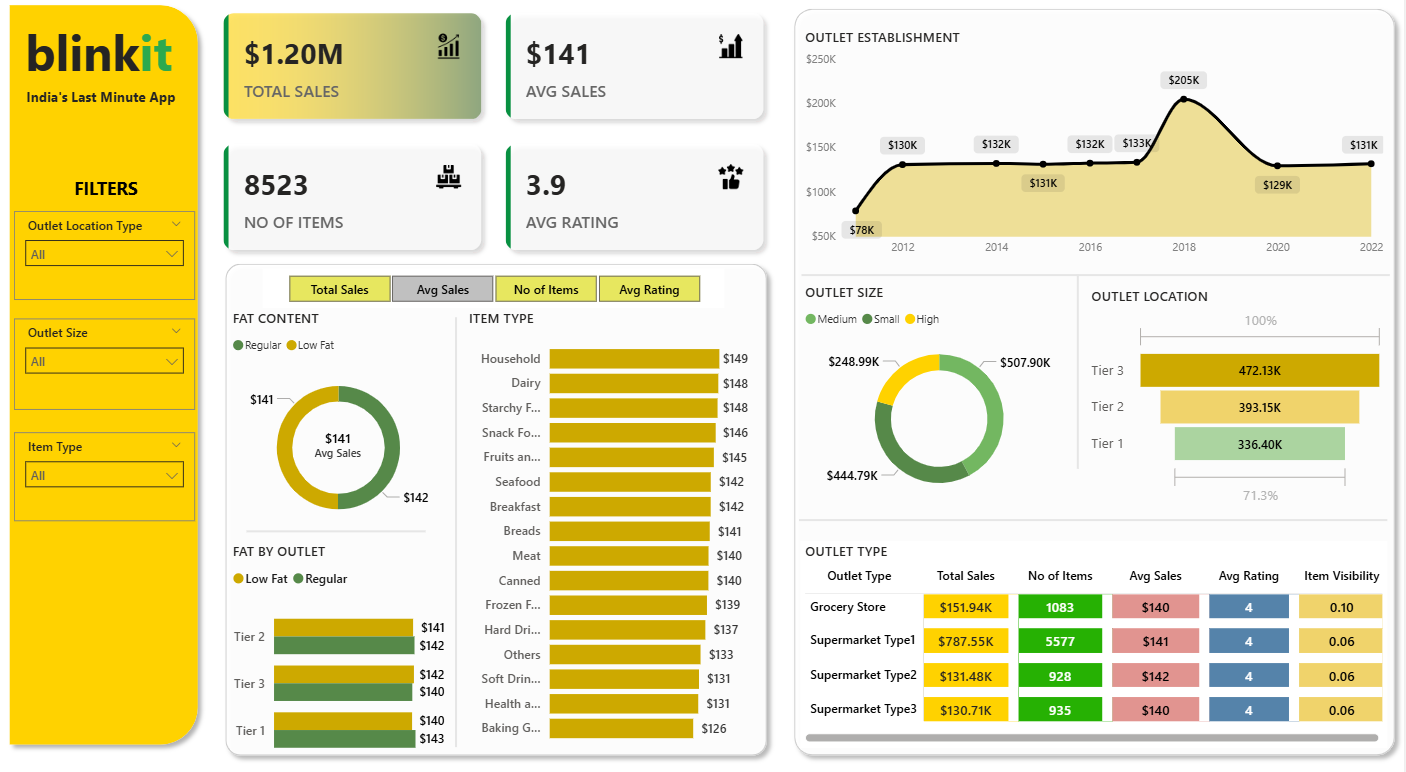

This screenshot's page, from the dashboard's own definition file:
{"tool":"powerbi","page":{"name":"Page 1","canvas":[1400,800],"ordinal":0},"visuals":[{"type":"shape","box":[10.9,15,204.5,749.8],"z":0},{"type":"textbox","box":[31.4,32.7,165,83.2],"z":1000},{"type":"textbox","box":[28.9,98.7,167.1,34.2],"z":2000},{"type":"cardVisual","fields":{"Data":["BlinkIT Grocery Data.Total Sales","BlinkIT Grocery Data.Avg Sales","BlinkIT Grocery Data.No of Items","BlinkIT Grocery Data.Avg Rating"]},"box":[215.4,15,569.9,269.9],"z":3000},{"type":"shape","box":[225,271.3,553.5,504.4],"z":4000},{"type":"donutChart","title":"FAT CONTENT","fields":{"Y":["BlinkIT Grocery Data.Total Sales"],"Category":["BlinkIT Grocery Data.Item Fat Content"]},"box":[235.9,324.5,219.5,230.4],"z":5000},{"type":"slicer","fields":{"Values":["Metrics.Metrics"]},"box":[271.3,284.9,456.7,39.5],"z":6000},{"type":"cardVisual","fields":{"Data":["BlinkIT Grocery Data.Total Sales"]},"box":[298.6,425.4,94.1,62.7],"z":7000},{"type":"clusteredBarChart","title":"FAT BY OUTLET","fields":{"Y":["BlinkIT Grocery Data.Total Sales"],"Category":["BlinkIT Grocery Data.Outlet Location Type"],"Series":["BlinkIT Grocery Data.Item Fat Content"]},"box":[236.8,553.9,219.7,230.3],"z":8000},{"type":"shape","box":[254.9,534.4,177.2,20.5],"z":9000},{"type":"shape","box":[454,332.7,16.4,425.4],"z":10000},{"type":"barChart","title":"ITEM TYPE","fields":{"Y":["BlinkIT Grocery Data.Total Sales"],"Category":["BlinkIT Grocery Data.Item Type"]},"box":[470.4,324.5,286.3,440.4],"z":11000},{"type":"shape","box":[788,19.1,612.1,756.7],"z":12000},{"type":"lineChart","title":"OUTLET ESTABLISHMENT","fields":{"Y":["BlinkIT Grocery Data.Total Sales"],"Category":["BlinkIT Grocery Data.Outlet Establishment Year"]},"box":[803,46.4,582.1,234.5],"z":13000},{"type":"shape","box":[804.4,280.8,582.1,20.5],"z":14000},{"type":"donutChart","title":"OUTLET SIZE","fields":{"Y":["BlinkIT Grocery Data.Total Sales"],"Category":["BlinkIT Grocery Data.Outlet Size"]},"box":[803,298.6,275.4,225],"z":15000},{"type":"shape","box":[1070.2,290.4,15,192.2],"z":16000},{"type":"funnel","title":"OUTLET LOCATION","fields":{"Y":["Sum(BlinkIT Grocery Data.Sales)"],"Category":["BlinkIT Grocery Data.Outlet Location Type"]},"box":[1086.6,301.3,299.9,222.2],"z":17000},{"type":"shape","box":[801.6,523.5,582.1,20.5],"z":18000},{"type":"pivotTable","title":"OUTLET TYPE","fields":{"Rows":["BlinkIT Grocery Data.Outlet Type"],"Values":["BlinkIT Grocery Data.Total Sales","BlinkIT Grocery Data.No of Items","BlinkIT Grocery Data.Avg Sales","BlinkIT Grocery Data.Avg Rating","Avg(BlinkIT Grocery Data.Item Visibility)"]},"box":[803,553.5,580.8,204.5],"z":19000},{"type":"slicer","fields":{"Values":["BlinkIT Grocery Data.Outlet Location Type"]},"box":[25,227.6,178.9,88.2],"z":20000},{"type":"slicer","fields":{"Values":["BlinkIT Grocery Data.Outlet Size"]},"box":[25,334.2,178.9,90.8],"z":21000},{"type":"slicer","fields":{"Values":["BlinkIT Grocery Data.Item Type"]},"box":[25,446.1,178.9,88.2],"z":22000},{"type":"shape","title":"FILTERS","box":[72.4,193.4,85.5,25],"z":23000}]}

Visuals, with their boxes on the page's 1400x800 design canvas (x1, y1, x2, y2). These are canvas units, not pixel positions in the 1406x772 screenshot, which may show the page scaled, cropped or inside an application window:
shape: rect(11, 15, 215, 765)
textbox: rect(31, 33, 196, 116)
textbox: rect(29, 99, 196, 133)
cardVisual - BlinkIT Grocery Data.Total Sales x BlinkIT Grocery Data.Avg Sales: rect(215, 15, 785, 285)
shape: rect(225, 271, 778, 776)
"FAT CONTENT" donutChart: rect(236, 324, 455, 555)
slicer - Metrics.Metrics: rect(271, 285, 728, 324)
cardVisual - BlinkIT Grocery Data.Total Sales: rect(299, 425, 393, 488)
"FAT BY OUTLET" clusteredBarChart: rect(237, 554, 456, 784)
shape: rect(255, 534, 432, 555)
shape: rect(454, 333, 470, 758)
"ITEM TYPE" barChart: rect(470, 324, 757, 765)
shape: rect(788, 19, 1400, 776)
"OUTLET ESTABLISHMENT" lineChart: rect(803, 46, 1385, 281)
shape: rect(804, 281, 1386, 301)
"OUTLET SIZE" donutChart: rect(803, 299, 1078, 524)
shape: rect(1070, 290, 1085, 483)
"OUTLET LOCATION" funnel: rect(1087, 301, 1386, 524)
shape: rect(802, 524, 1384, 544)
"OUTLET TYPE" pivotTable: rect(803, 554, 1384, 758)
slicer - BlinkIT Grocery Data.Outlet Location Type: rect(25, 228, 204, 316)
slicer - BlinkIT Grocery Data.Outlet Size: rect(25, 334, 204, 425)
slicer - BlinkIT Grocery Data.Item Type: rect(25, 446, 204, 534)
"FILTERS" shape: rect(72, 193, 158, 218)
